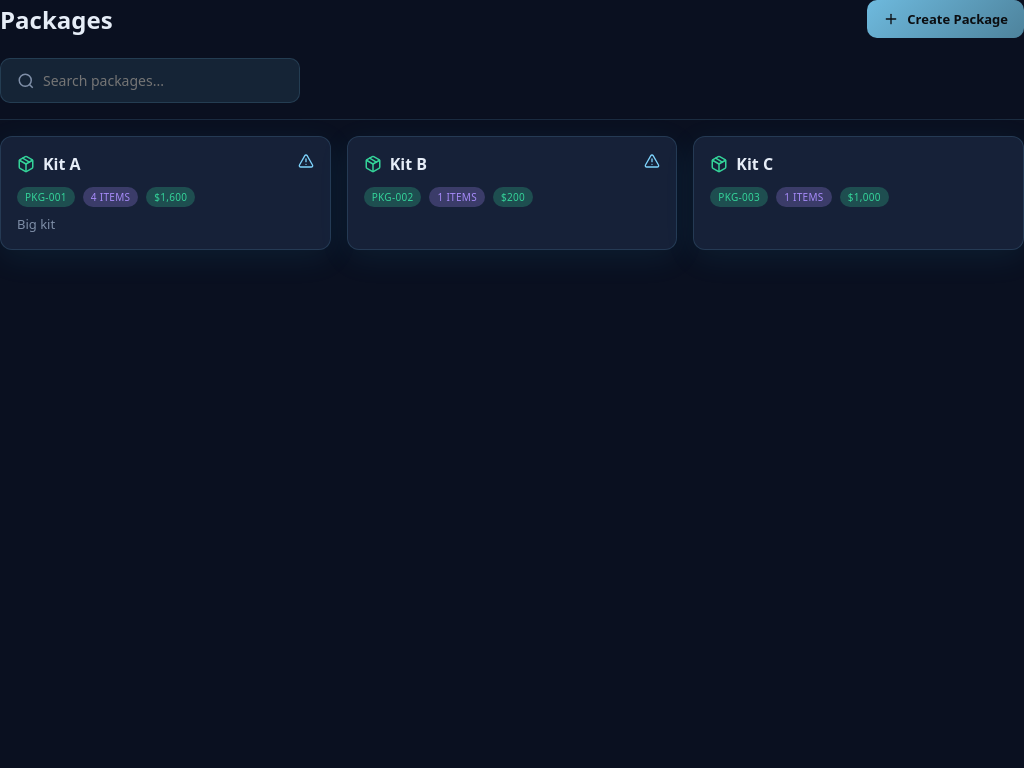
Package metadata editing › duplicate-name check ignores the package being edited
The image size is (1024, 768).
Click the heading "Kit C": (755, 164) [736, 153, 773, 175]
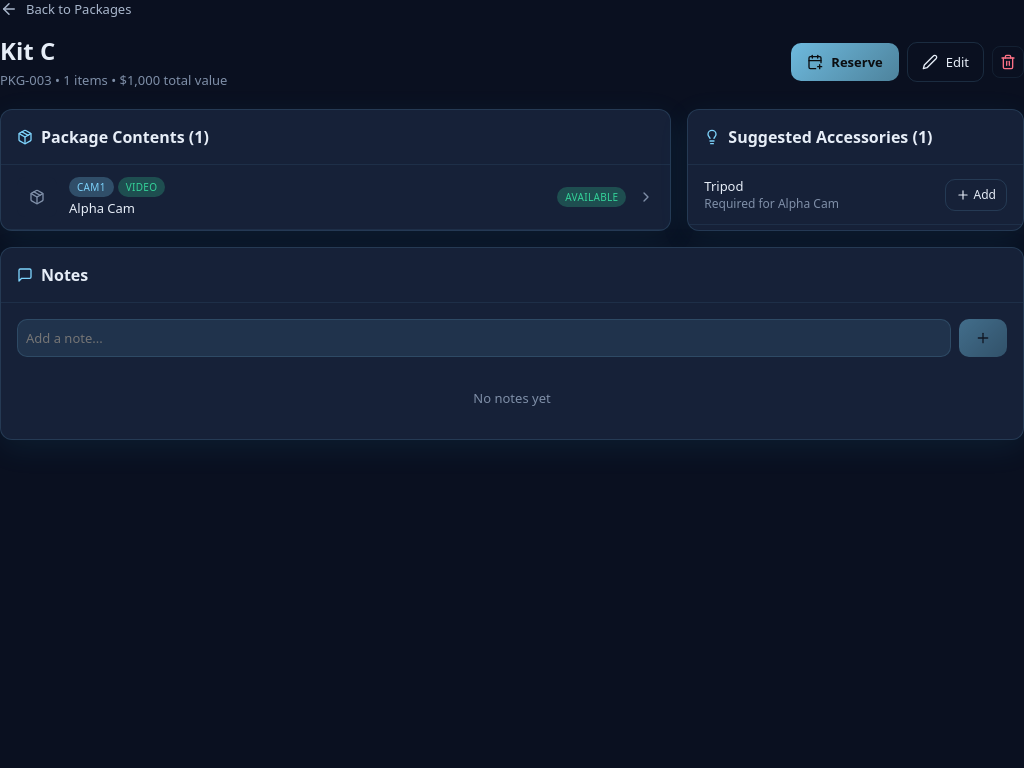
Click the button "Edit": (945, 62) [907, 42, 984, 82]
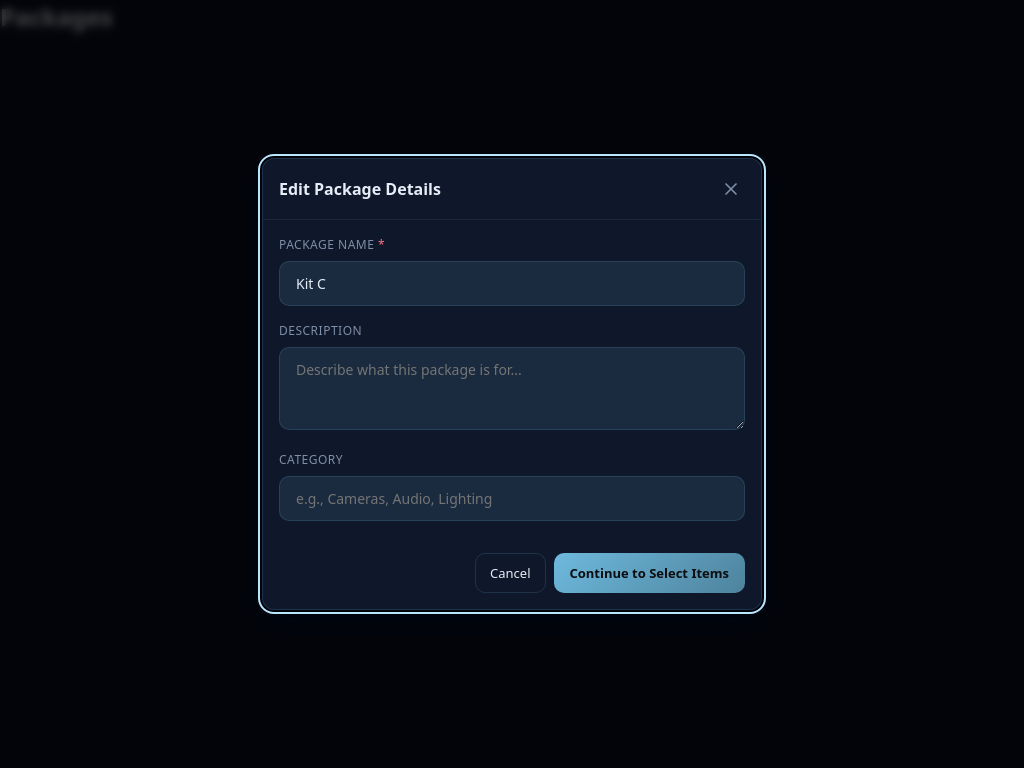
Replace the text in the field showing "Kit C" with "Kit A": (512, 284) [279, 261, 745, 306]
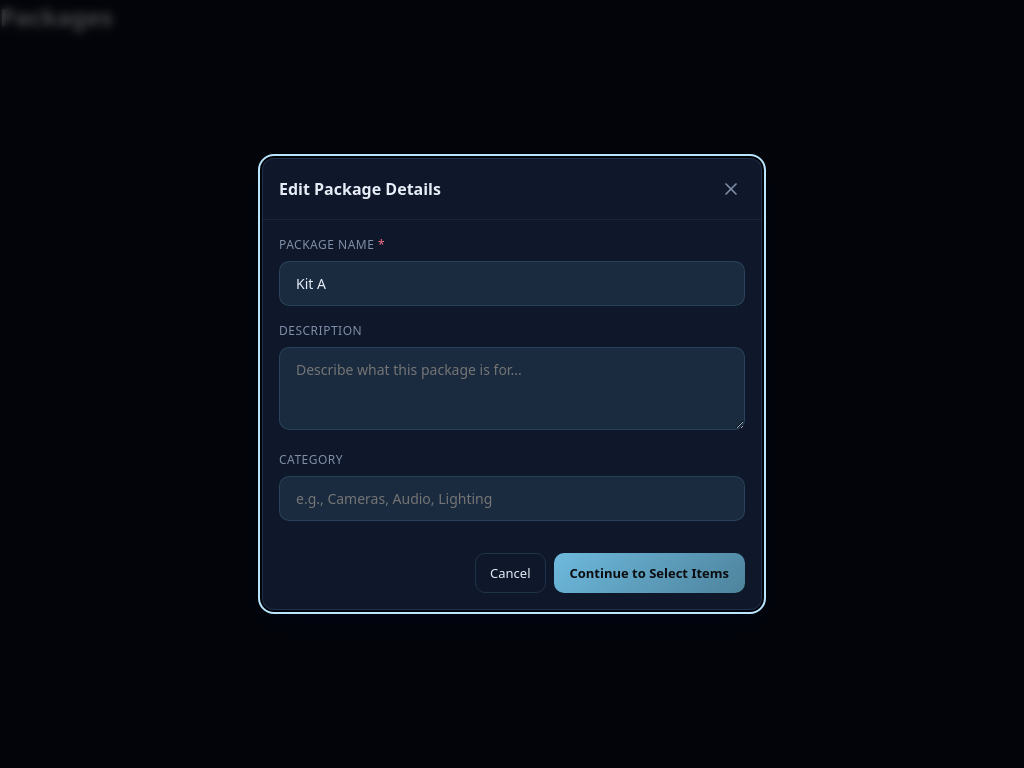
Click the button "Continue to Select Items": (649, 573) [554, 553, 745, 593]
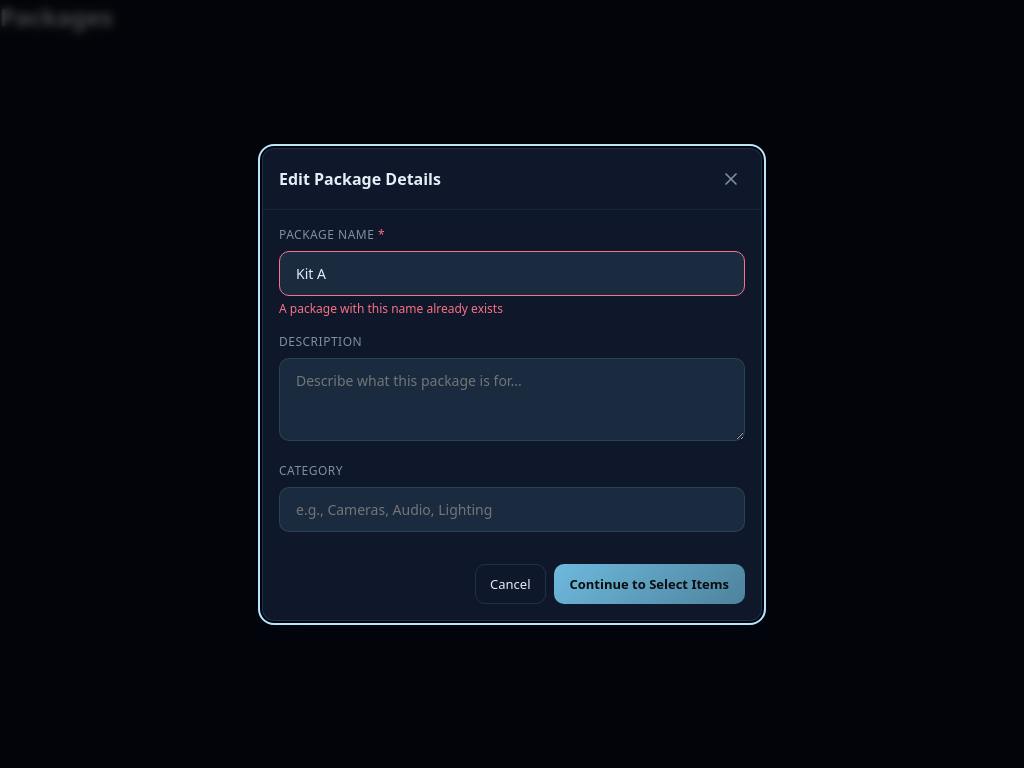
Expected: the text "A package with this name already exists" is shown, [279, 300, 503, 316]
Replace the text in the field showing "Kit A" with "Kit C": (512, 273) [279, 250, 745, 296]
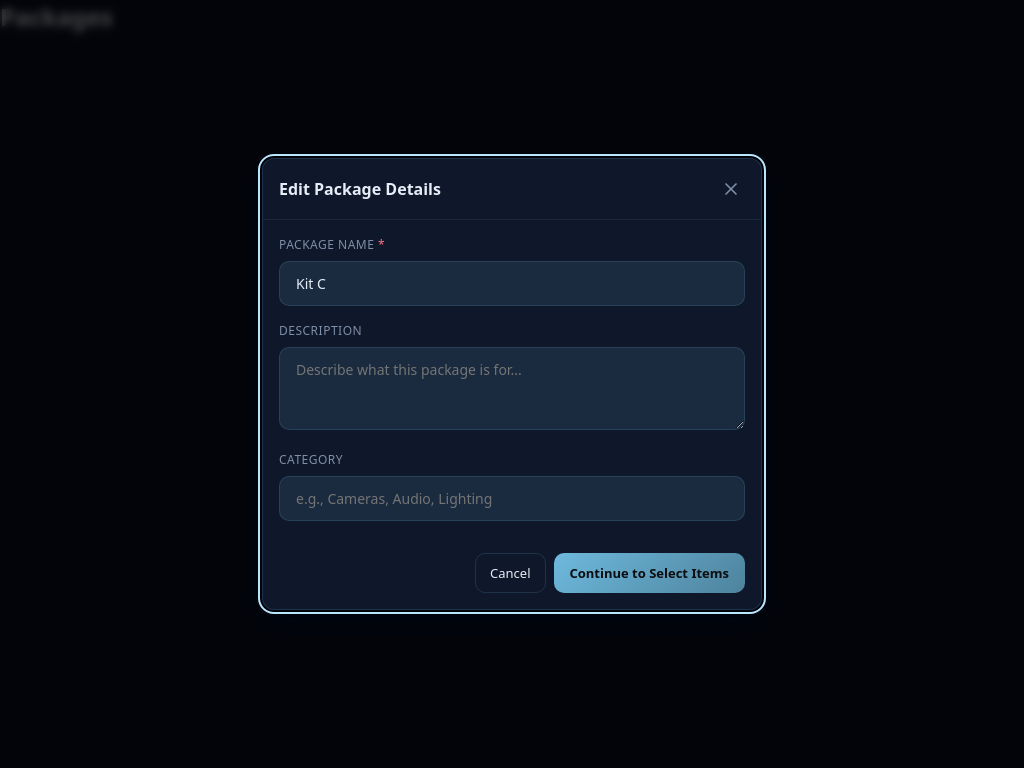
Click the button "Continue to Select Items": (649, 573) [554, 553, 745, 593]
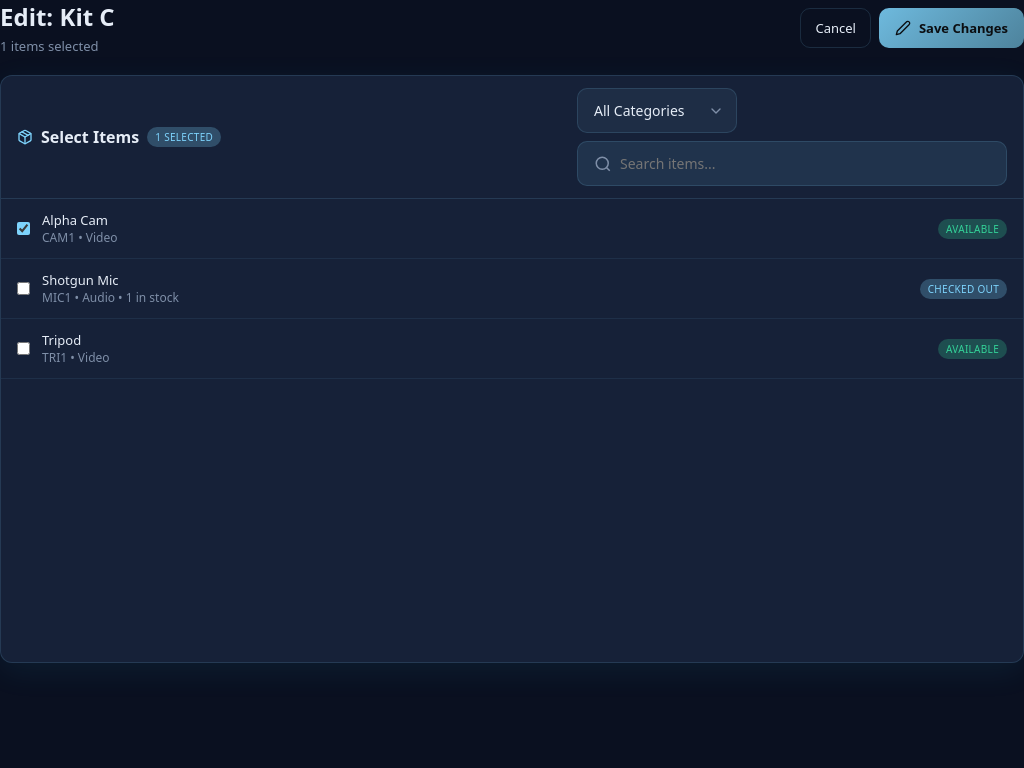
Expected: the button "Save Changes" is shown, [879, 8, 1023, 48]
